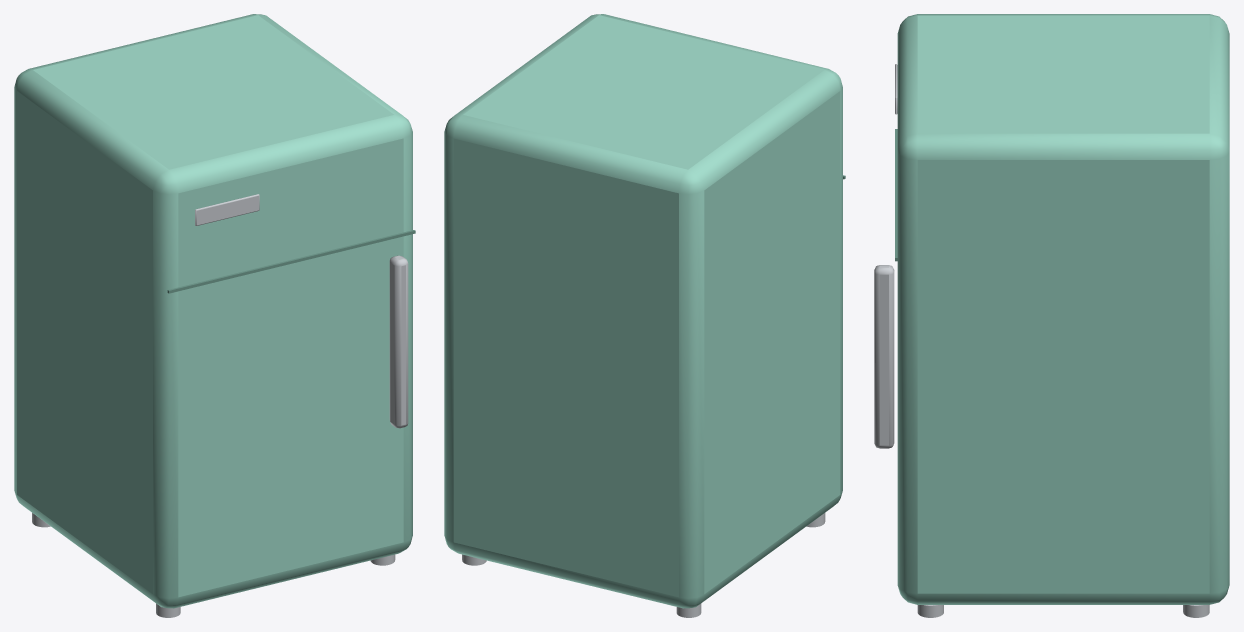
File: mini_fridge.fbx
3 views of the same model, side by side, from view 1: azimuth 30°, elevation 25°; view 2: azimuth 150°, elevation 25°; view 3: azimuth 270°, elevation 25° (orthographic). The views are drawn at different scales.
Parts seen in each view (by area): view 1: Fridge; view 2: Fridge; view 3: Fridge.
Part boxes in pixels (<box>): Fridge: <box>14,14,415,617</box>; Fridge: <box>444,14,845,617</box>; Fridge: <box>874,14,1229,617</box>.
Bounding box in the file's own units: 0.48 × 0.8 × 0.535.
